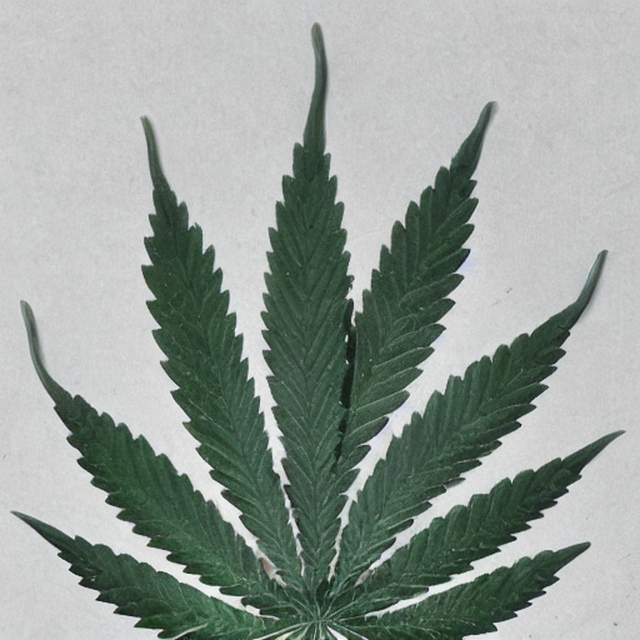Marijuana Leaf: (10, 21, 623, 639)
